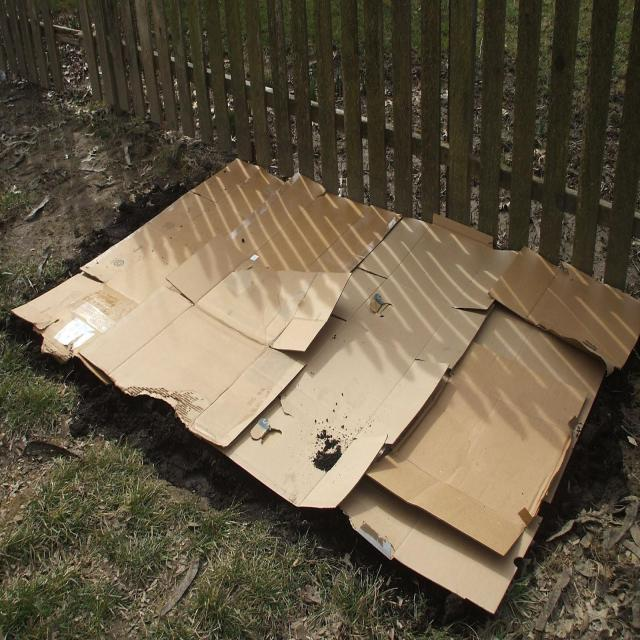cardboard: (11, 155, 640, 615)
